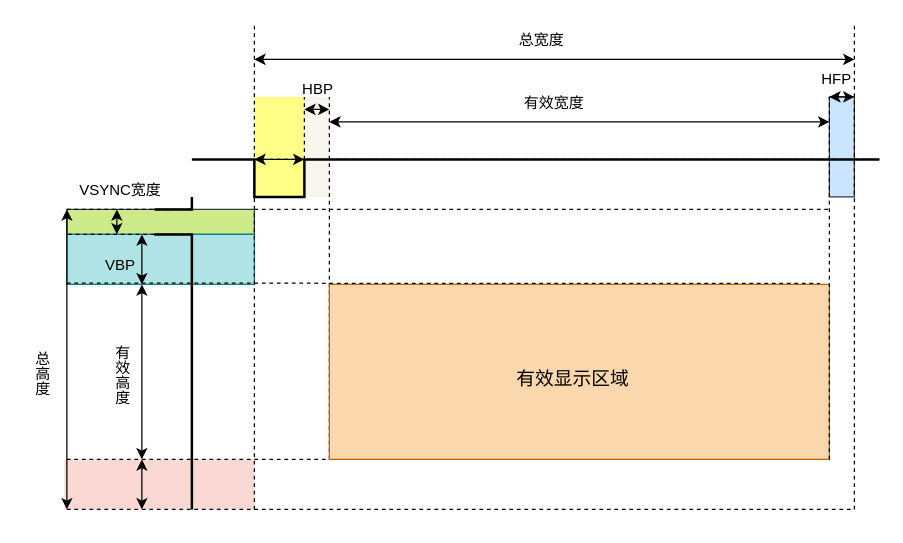
Image size: 903x543. Some labels were removed from this diagram. The centre of each missing label's shape, as x and y in pixels:
HSYNC宽度: the point at 279,146
VFP: the point at 159,484
